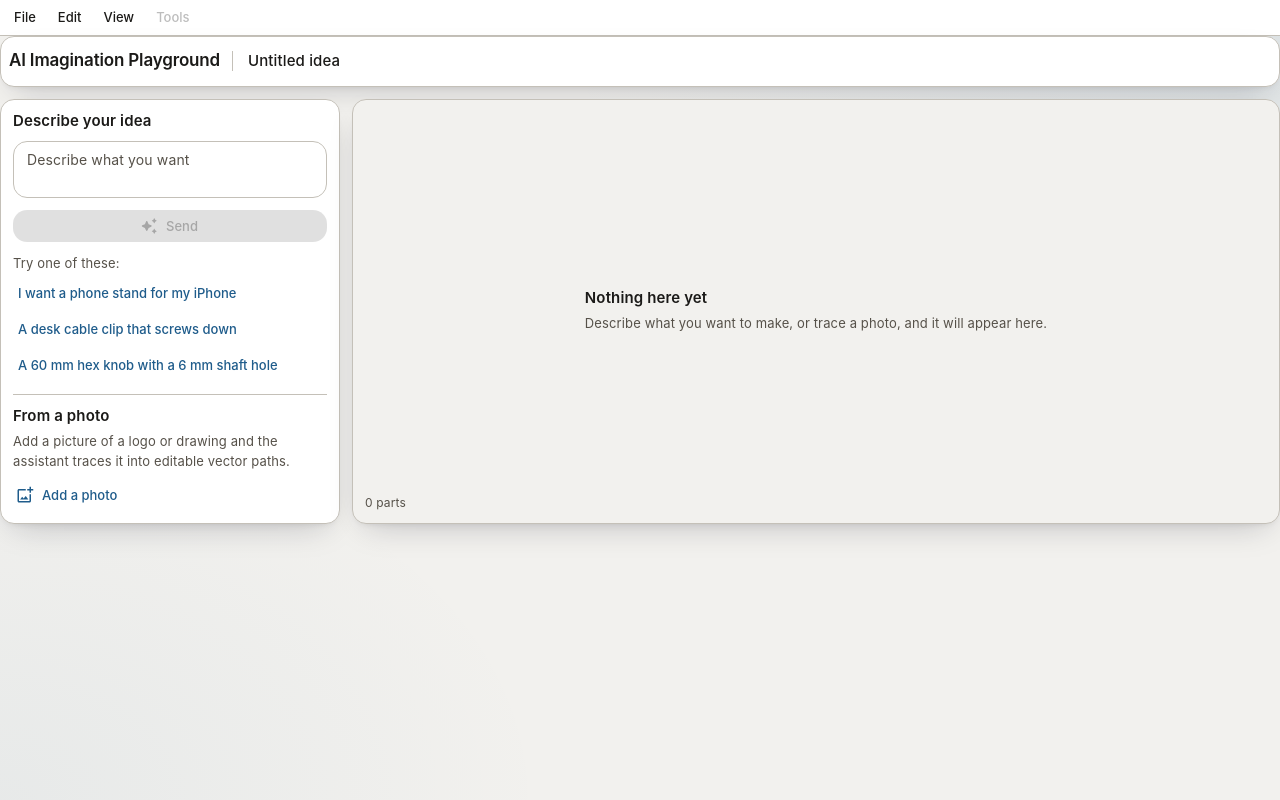
Test case: discarding leaves the document untouched
Step 1. Click the button "I want a phone stand for my iPhone" → click(170, 294), box [13, 278, 327, 310]
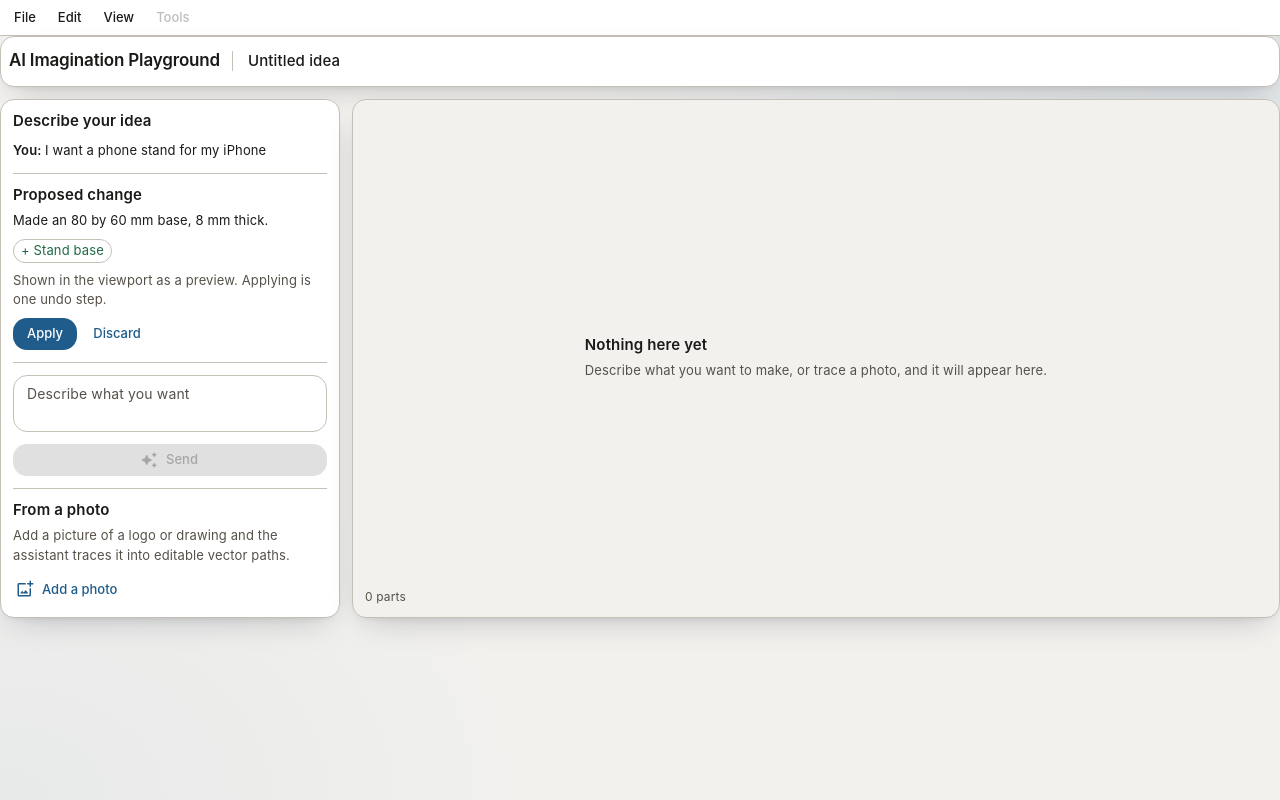
Result: the button "Discard" is shown
Step 2. Click the button "Discard" → click(117, 334), box [85, 318, 149, 350]
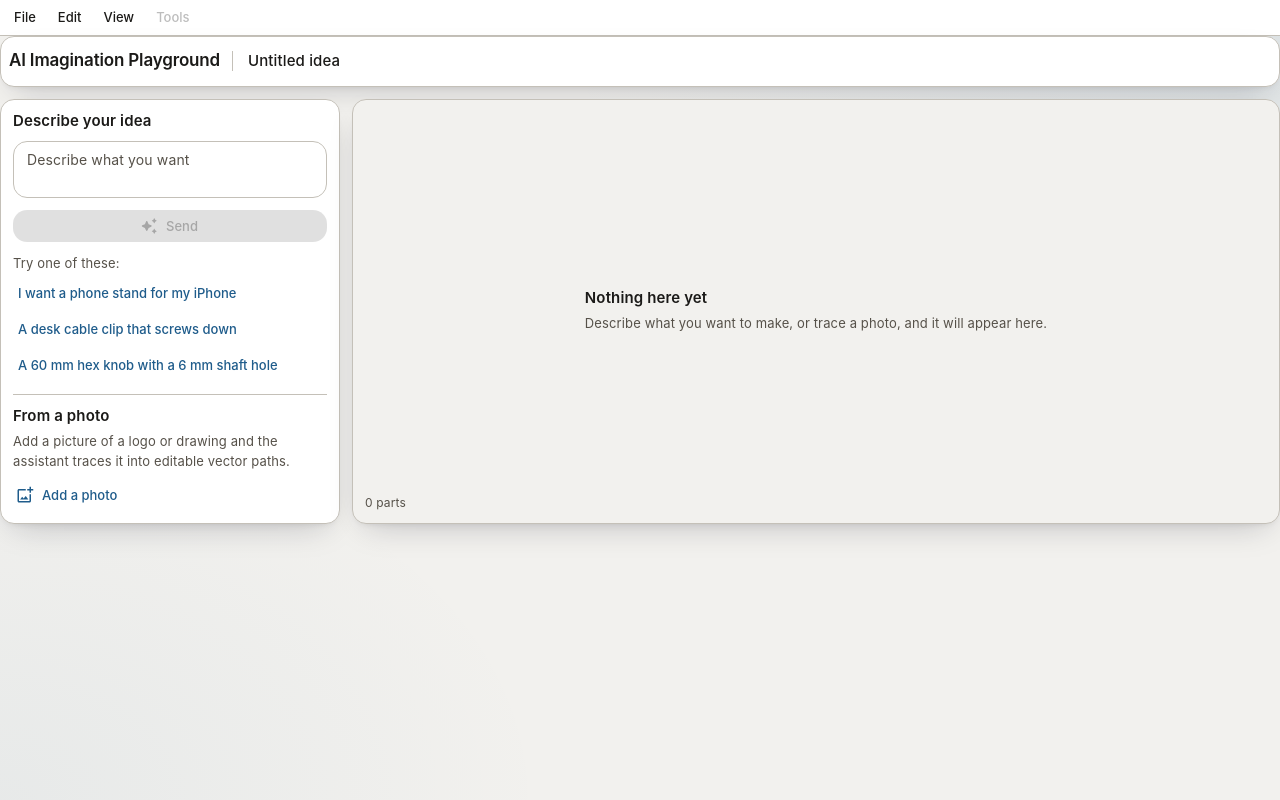
Expected: the text "Nothing here yet" is shown, [585, 289, 707, 306]
Result: the heading "Proposed change" is gone
